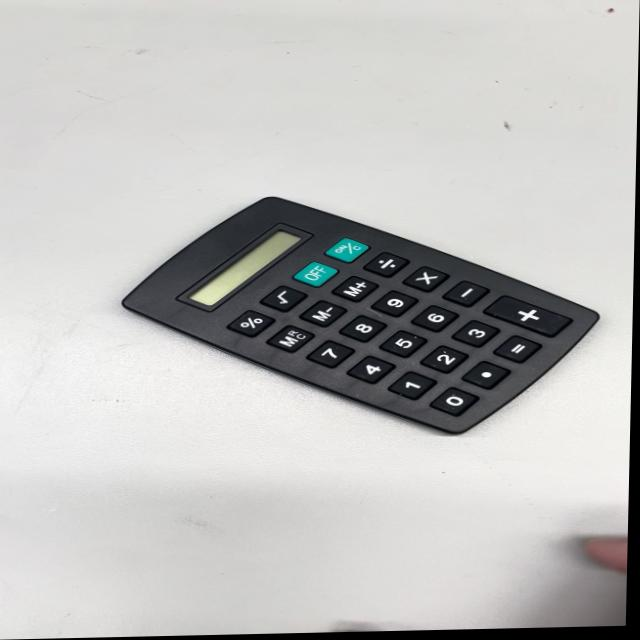calculator: (127, 185, 603, 441)
